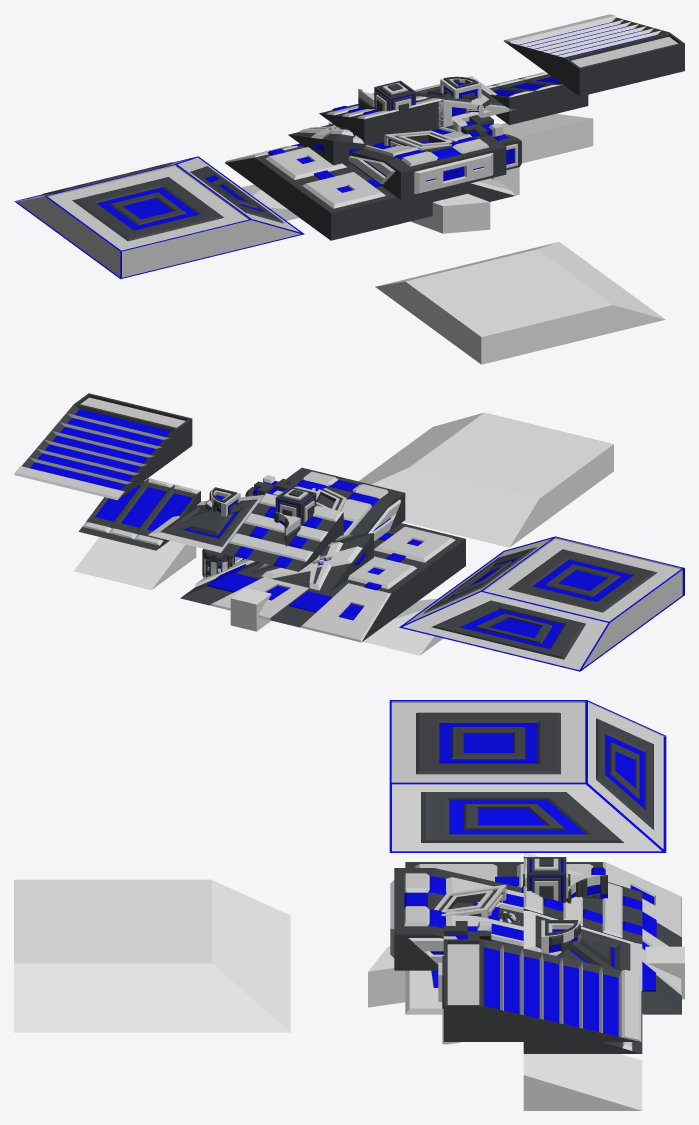
Rendered from Arena Basic Building Blocks 2.0 Unwrapped with Hitboxes.fbx.
3 renders of one model, top to bottom at view 1: azimuth 30°, elevation 25°; view 2: azimuth 150°, elevation 25°; view 3: azimuth 270°, elevation 25°, orthographic. The views are drawn at different scales.
Parts seen in each view (by area): view 1: TR Slope 1, Slopy1, TR Slope 2, TR Slope 6, TR Slope 5, TR Slope 4, TR Slope 3, Slopy4, Diamond, TR Slope 7, TR Slope 8, TR Cube 1 (+5 smaller); view 2: TR Slope 1, Slopy1, TR Slope 2, TR Slope 6, TR Slope 4, TR Slope 3, TR Slope 5, Slopy4, TR Slope 7, TR Slope 8, Slopy3, Cube (+5 smaller); view 3: Slopy1, TR Slope 1, TR Slope 6, TR Slope 2, TR Slope 5, Slopy4, TR Slope 4, TR Slope 8, TR Cube 1, Diamond, TR Diamond 1, TR Slope 3 (+4 smaller).
Part boxes in pixels (left/top/right/bottom): TR Slope 1: left=14, top=156, right=304, bottom=278; Slopy1: left=375, top=242, right=665, bottom=364; TR Slope 2: left=225, top=143, right=515, bottom=240; TR Slope 6: left=504, top=14, right=684, bottom=96; TR Slope 5: left=348, top=125, right=506, bottom=199; TR Slope 4: left=319, top=96, right=443, bottom=145; TR Slope 3: left=487, top=72, right=588, bottom=124; Slopy4: left=500, top=114, right=593, bottom=163; Diamond: left=410, top=193, right=490, bottom=233; TR Slope 7: left=288, top=124, right=374, bottom=165; TR Slope 8: left=414, top=76, right=516, bottom=128; TR Cube 1: left=374, top=80, right=415, bottom=115; TR Slope 1: left=399, top=536, right=684, bottom=671; Slopy1: left=358, top=412, right=613, bottom=547; TR Slope 2: left=180, top=523, right=465, bottom=642; TR Slope 6: left=14, top=393, right=192, bottom=500; TR Slope 4: left=221, top=493, right=343, bottom=571; TR Slope 3: left=78, top=478, right=200, bottom=550; TR Slope 5: left=286, top=467, right=405, bottom=542; Slopy4: left=74, top=537, right=196, bottom=590; TR Slope 7: left=252, top=533, right=373, bottom=592; TR Slope 8: left=148, top=495, right=263, bottom=552; Slopy3: left=363, top=598, right=443, bottom=655; Cube: left=230, top=587, right=271, bottom=631; Slopy1: left=14, top=879, right=290, bottom=1032; TR Slope 1: left=389, top=700, right=666, bottom=852; TR Slope 6: left=443, top=939, right=641, bottom=1041; TR Slope 2: left=405, top=862, right=681, bottom=1014; TR Slope 5: left=390, top=868, right=523, bottom=970; Slopy4: left=523, top=1054, right=642, bottom=1110; TR Slope 4: left=523, top=858, right=642, bottom=943; TR Slope 8: left=523, top=910, right=642, bottom=991; TR Cube 1: left=523, top=857, right=570, bottom=902; Diamond: left=368, top=946, right=405, bottom=1007; TR Diamond 1: left=434, top=884, right=506, bottom=918; TR Slope 3: left=523, top=1003, right=642, bottom=1053.
Size of what is drawn, in the model's own units: 4444 by 800 by 3394.
